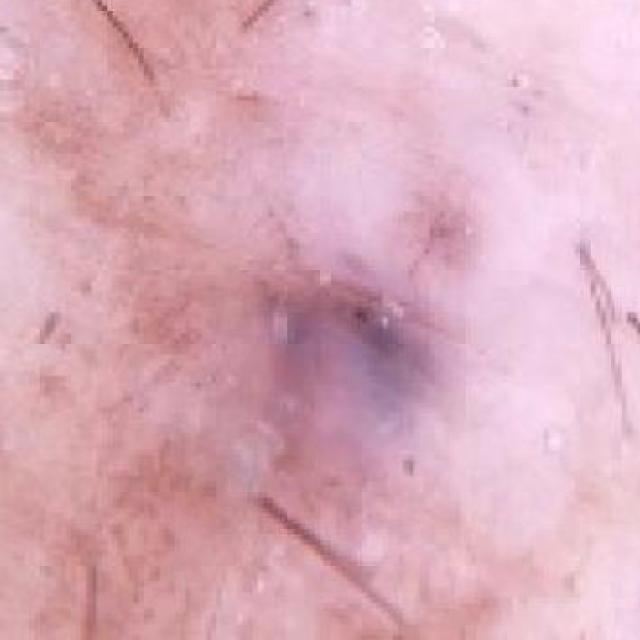BCC: (70, 90, 538, 640)
